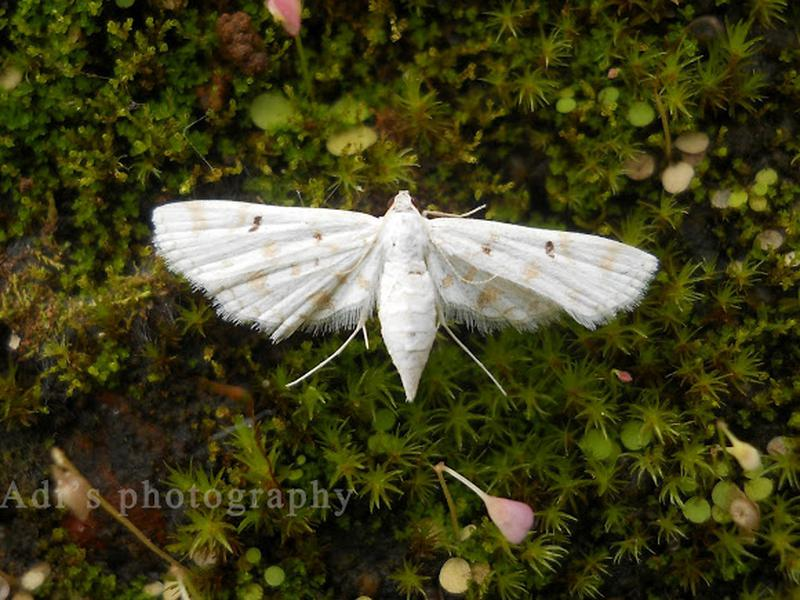Rice_case_worm: (142, 173, 657, 370)
